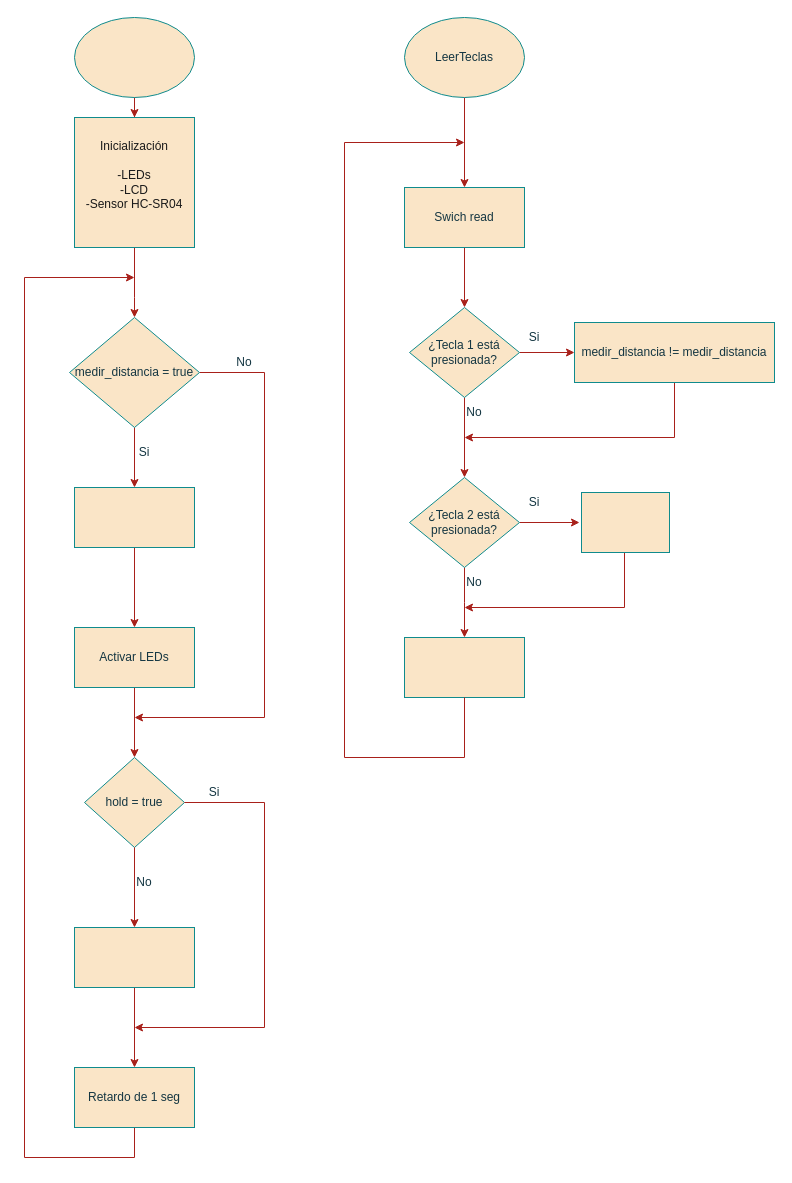
Some shapes in this 792 by 1183 pixel diagram are drawn without their labels. Here are the shapes that lost their labels. From the top down, the centre of each, then its label:
the point at 134,57: MedirEncender
the point at 134,517: Leer distancia
the point at 625,522: hold != hold
the point at 464,667: Retardo 10 ms
the point at 134,957: Mostar en Display
